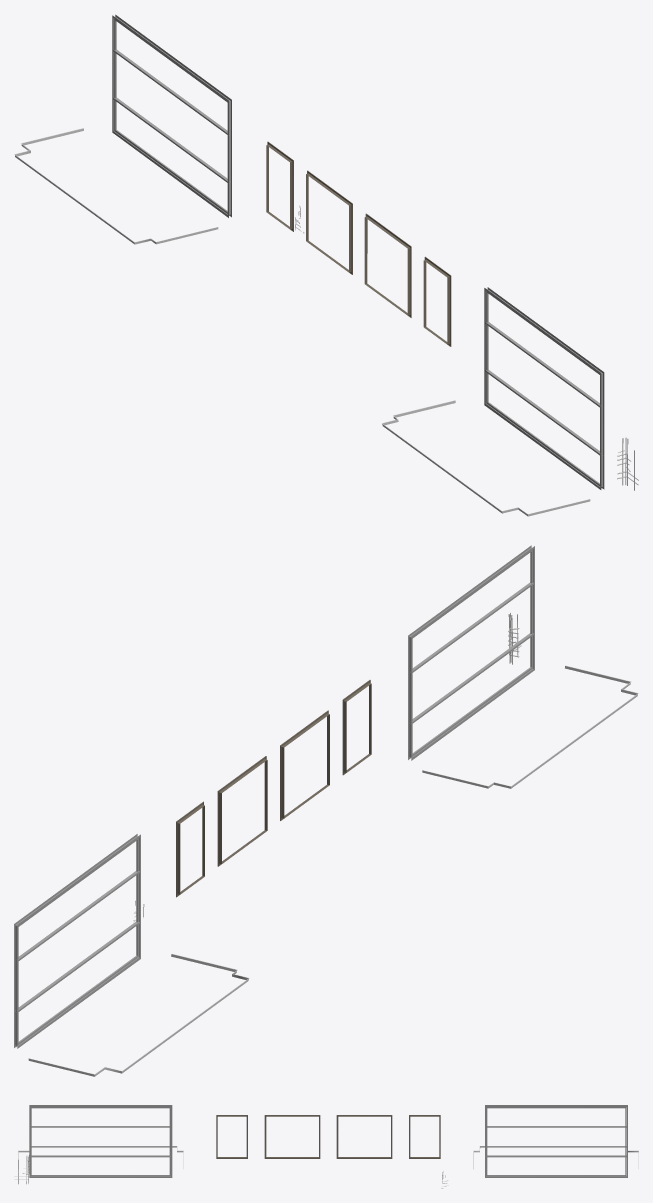
The model's file is SM_H_Building_Tide_OfficeLobby_06D_ATLAS.fbx.
3 renders of one model, top to bottom at view 1: azimuth 30°, elevation 25°; view 2: azimuth 150°, elevation 25°; view 3: azimuth 270°, elevation 25°, orthographic. The views are drawn at different scales.
Parts seen in each view (by area): view 1: SM_H_Building_Tide_OfficeLobby_06D_ATLAS_LOD0; view 2: SM_H_Building_Tide_OfficeLobby_06D_ATLAS_LOD0; view 3: SM_H_Building_Tide_OfficeLobby_06D_ATLAS_LOD0.
Part boxes in pixels (<box>): SM_H_Building_Tide_OfficeLobby_06D_ATLAS_LOD0: <box>14,14,638,516</box>; SM_H_Building_Tide_OfficeLobby_06D_ATLAS_LOD0: <box>14,545,638,1076</box>; SM_H_Building_Tide_OfficeLobby_06D_ATLAS_LOD0: <box>14,1105,638,1188</box>.
Bounding box in the file's own units: 547 × 3456 × 440.
